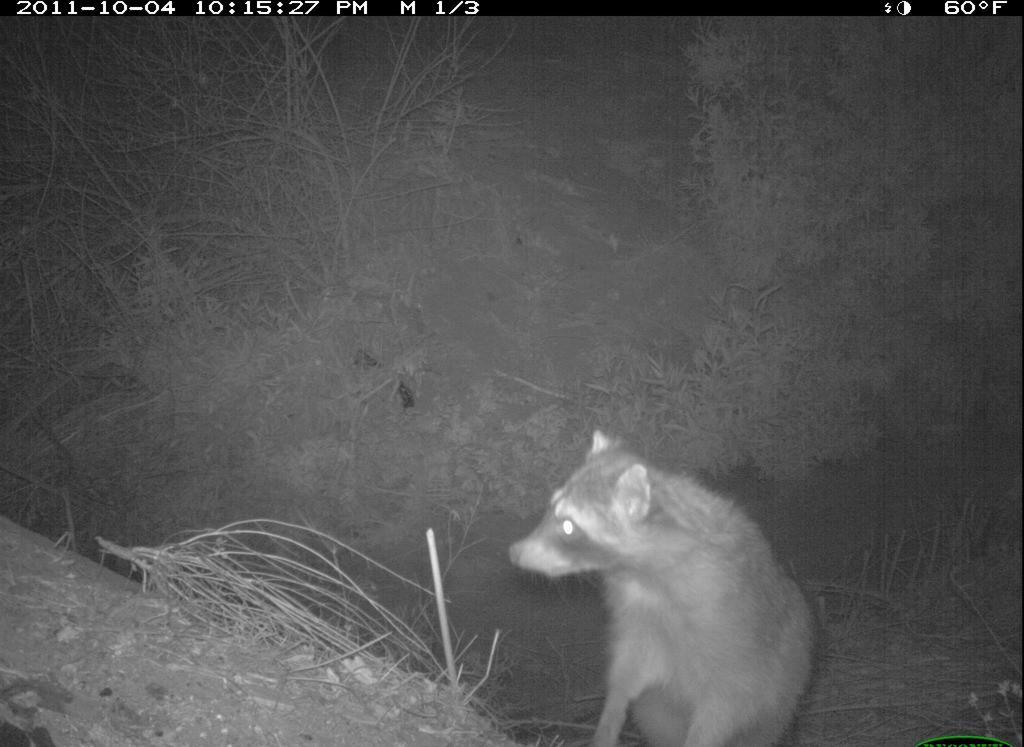raccoon: (510, 428, 821, 747)
